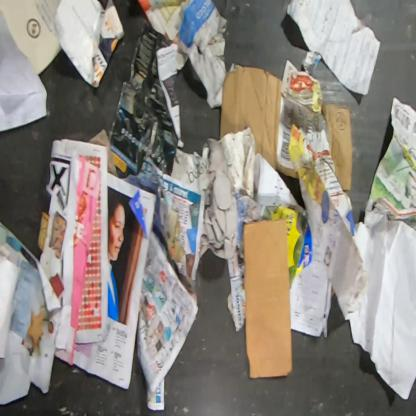cardboard: (218, 62, 354, 191), (242, 218, 294, 379)
